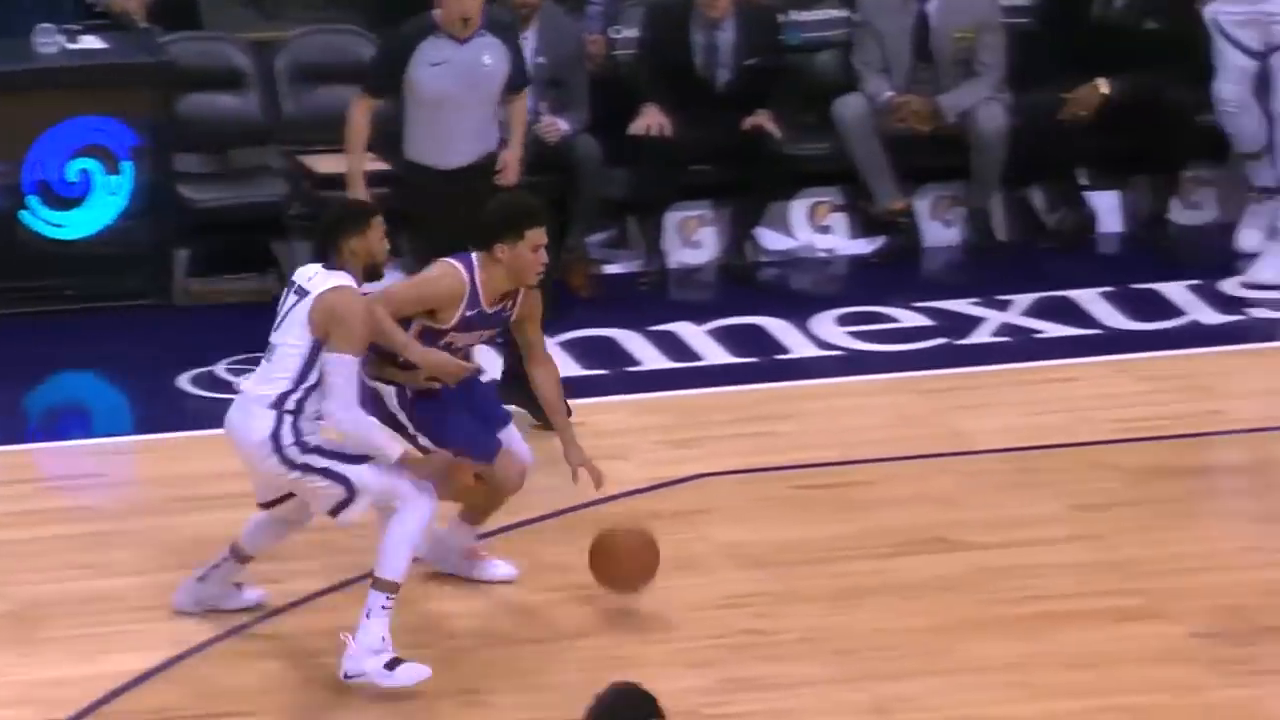ball: (586, 522, 667, 590)
